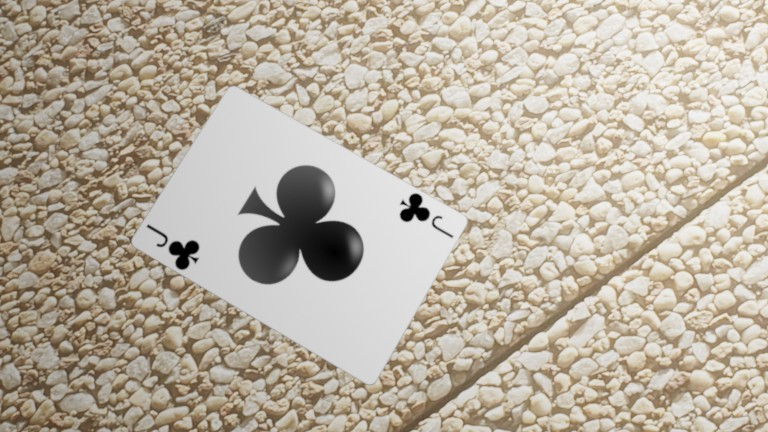jack_of_clubs: (134, 214, 208, 277), (391, 186, 465, 248)
